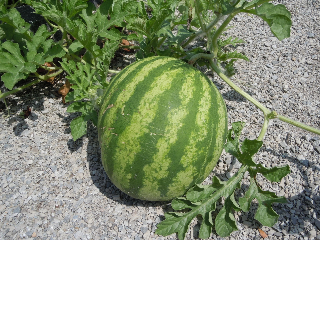dua_hau: (93, 52, 226, 204)
